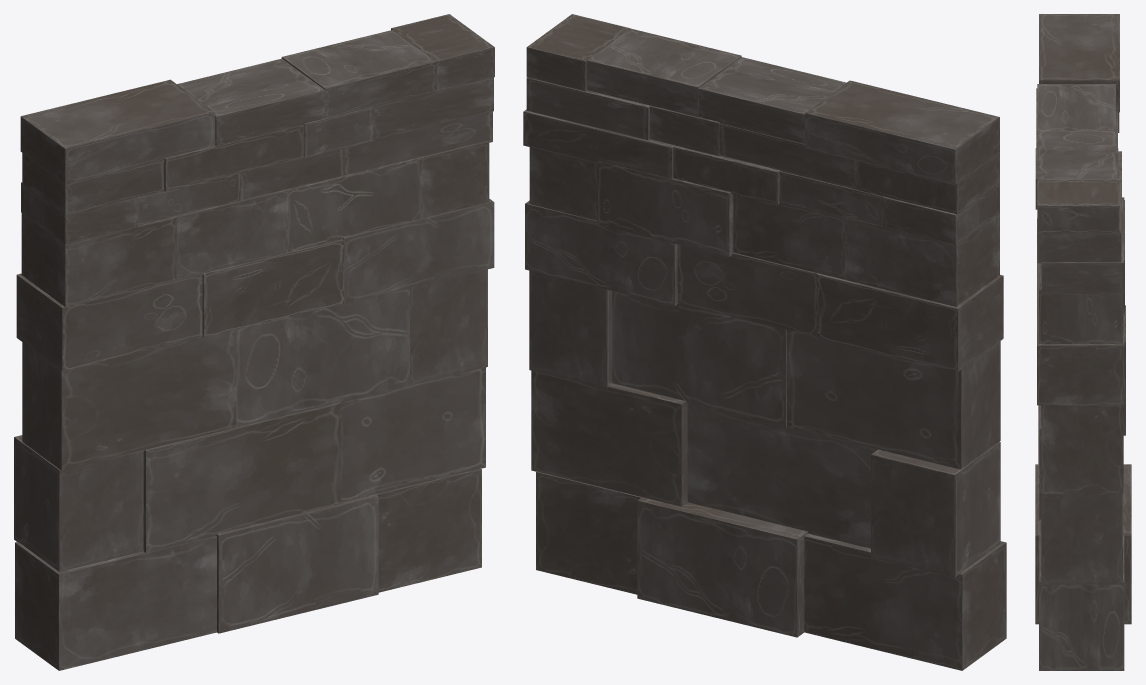
Rendered from Stone_Wall_Var2.fbx.
3 views of the same model, side by side, from view 1: azimuth 30°, elevation 25°; view 2: azimuth 150°, elevation 25°; view 3: azimuth 270°, elevation 25° (orthographic). The views are drawn at different scales.
Visible parts, largest first — view 1: StoneBrick_Dark_1__41_; view 2: StoneBrick_Dark_1__41_; view 3: StoneBrick_Dark_1__41_.
Part boxes in pixels (left/top/right/bottom): StoneBrick_Dark_1__41_: left=14, top=14, right=494, bottom=670; StoneBrick_Dark_1__41_: left=523, top=14, right=1006, bottom=670; StoneBrick_Dark_1__41_: left=1035, top=14, right=1131, bottom=670.
Bounding box in the file's own units: 3.09 × 3.53 × 0.6505.
